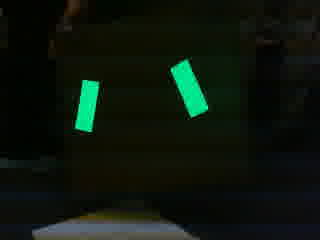target: (75, 58, 210, 132)
